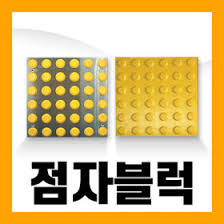block(point type): (115, 57, 196, 136), (26, 58, 107, 135)
